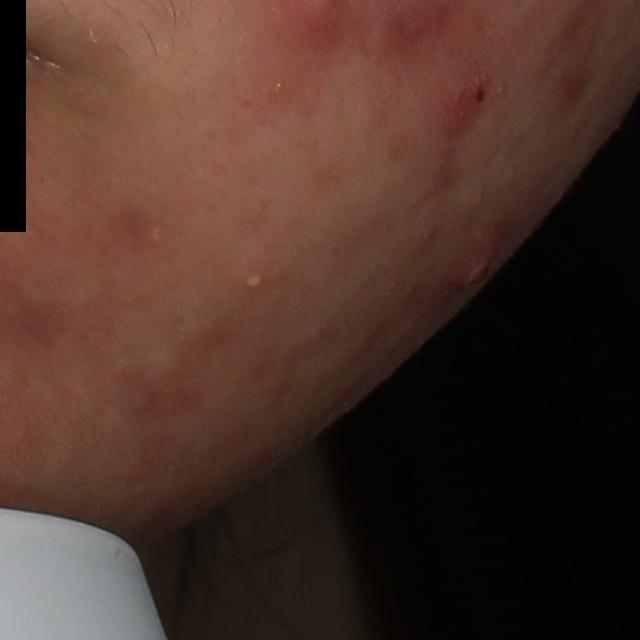papule: (437, 74, 490, 139)
pustule: (446, 229, 497, 300), (241, 271, 266, 292)
